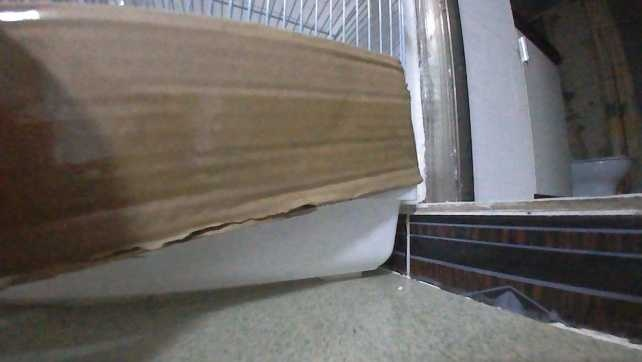toilet: (571, 155, 632, 195)
